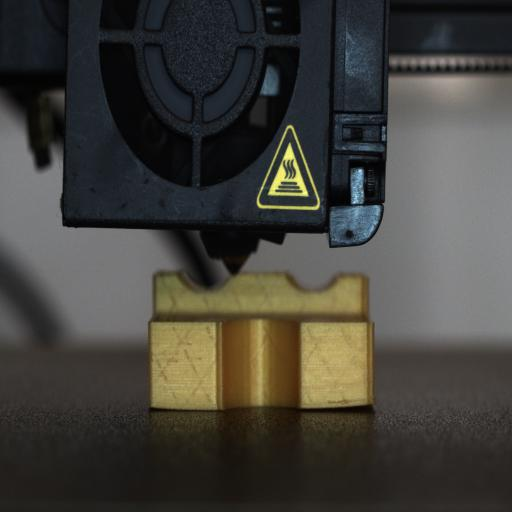warp: (329, 386, 379, 415)
